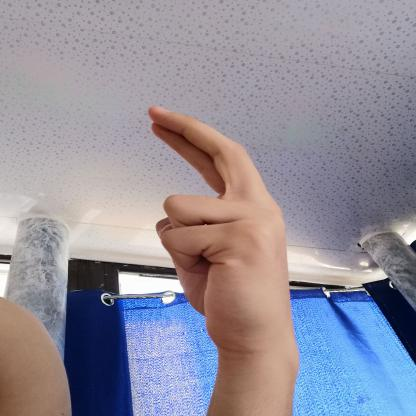ZAY: (136, 94, 308, 366)
